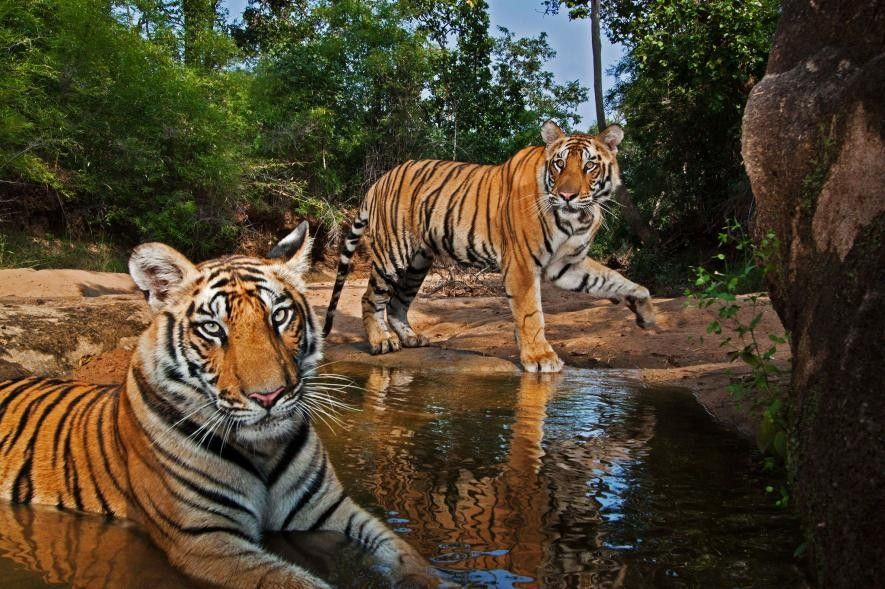Tigrew: (15, 222, 415, 568), (341, 105, 668, 387)
